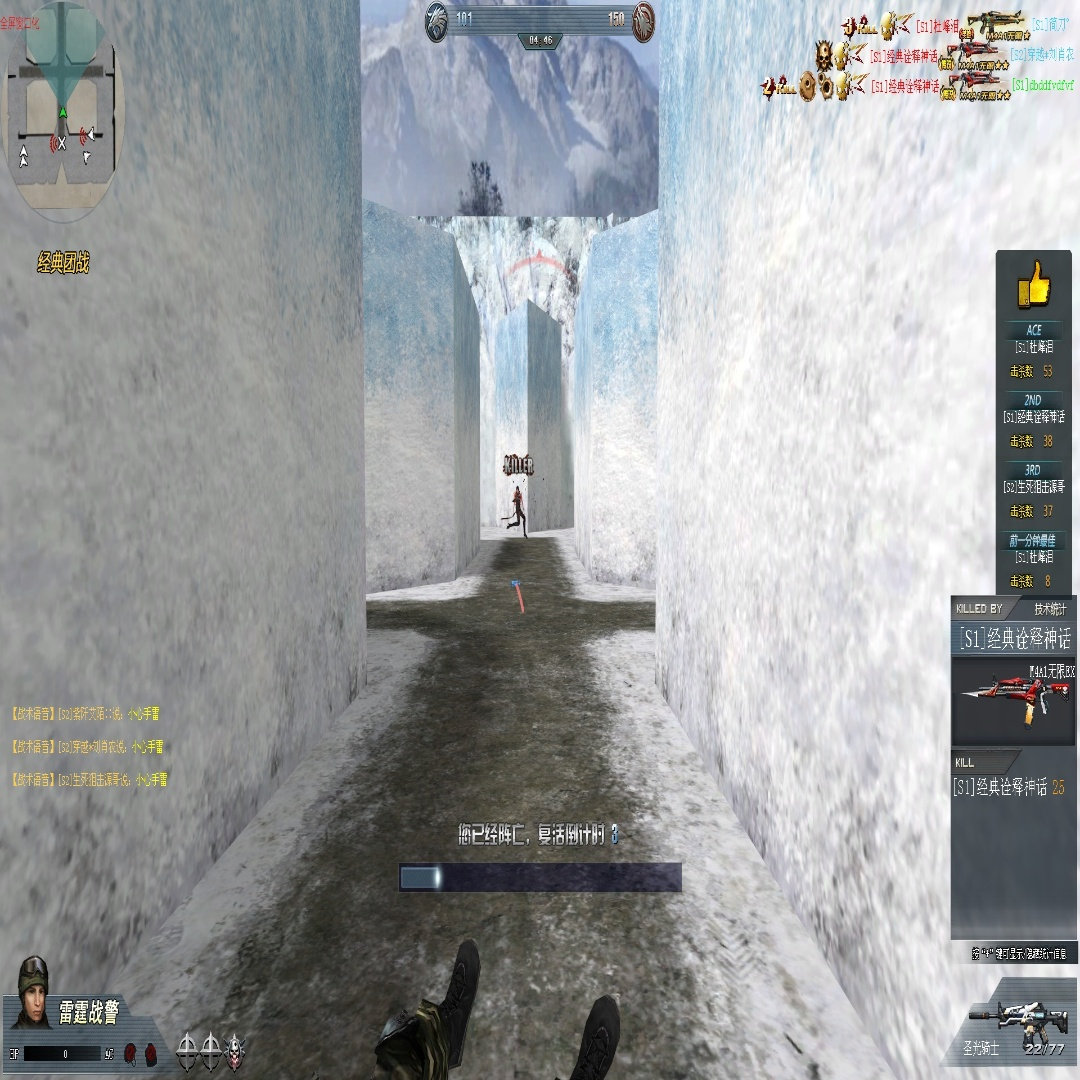t: (511, 484, 528, 536)
